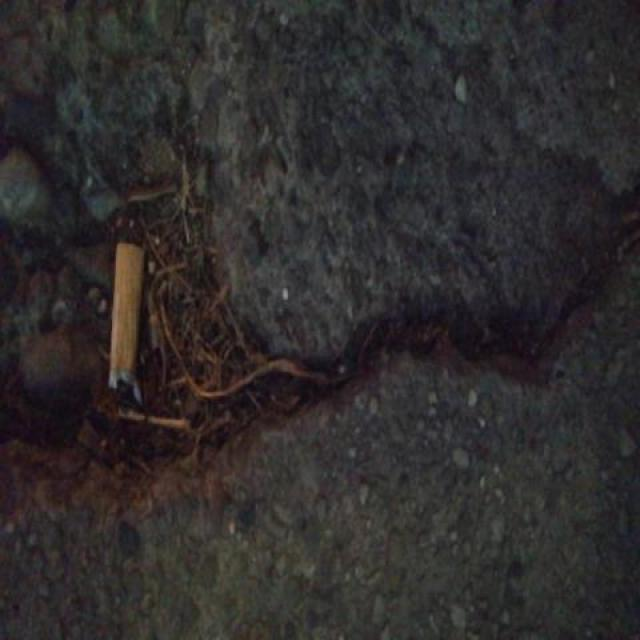non-organic waste: (104, 238, 152, 406)
